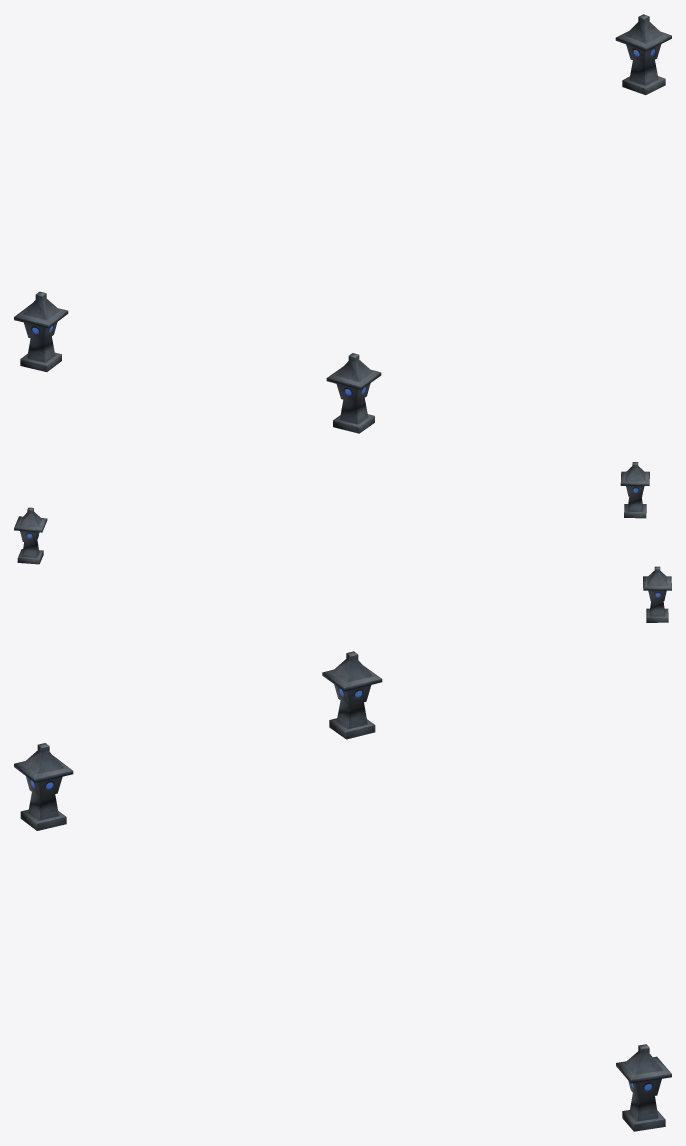
The model's file is xiaowujian07.fbx.
3 renders of one model, top to bottom at view 1: azimuth 30°, elevation 25°; view 2: azimuth 150°, elevation 25°; view 3: azimuth 270°, elevation 25°, orthographic. The views are drawn at different scales.
Visible parts, largest first — view 1: xiaowujian07; view 2: xiaowujian07; view 3: xiaowujian07.
Part boxes in pixels (x1,y1,x2,y2): xiaowujian07: (14, 14, 671, 433); xiaowujian07: (14, 462, 671, 622); xiaowujian07: (14, 651, 671, 1131).
Bounding box in the file's own units: 3009 × 256 × 2006.
